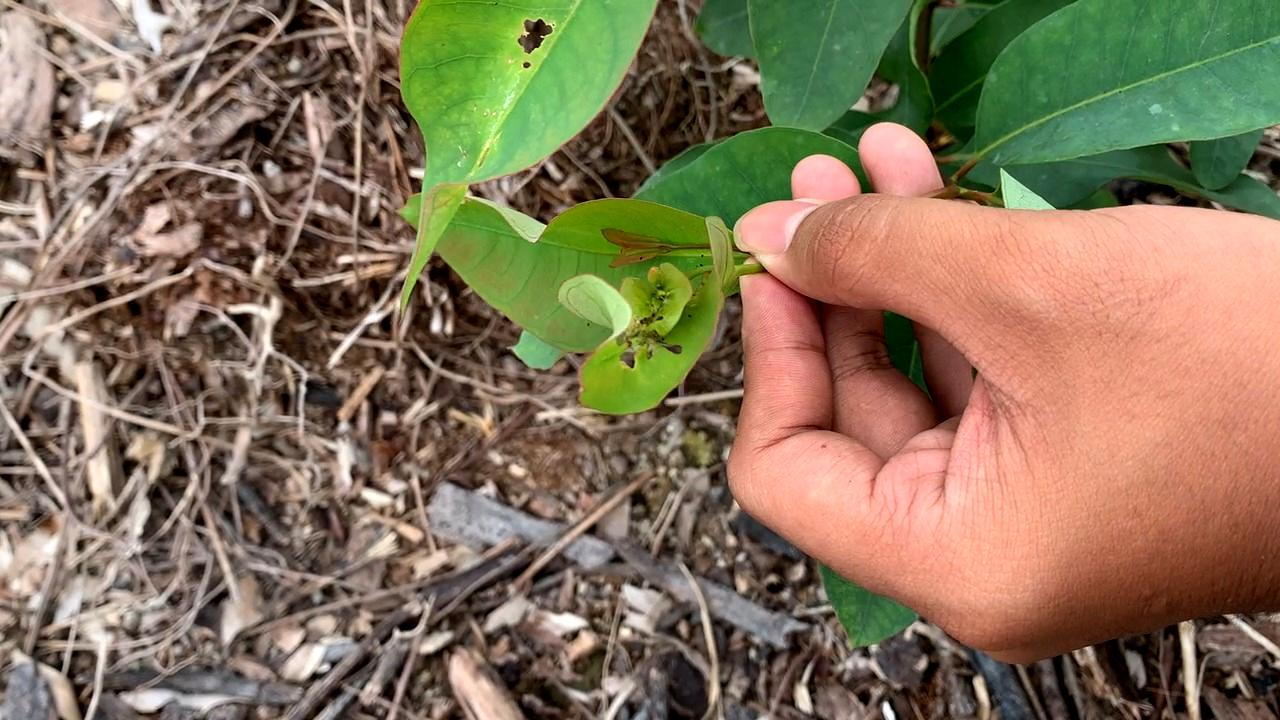Leaf Roller - Leaf: (575, 259, 737, 389)
